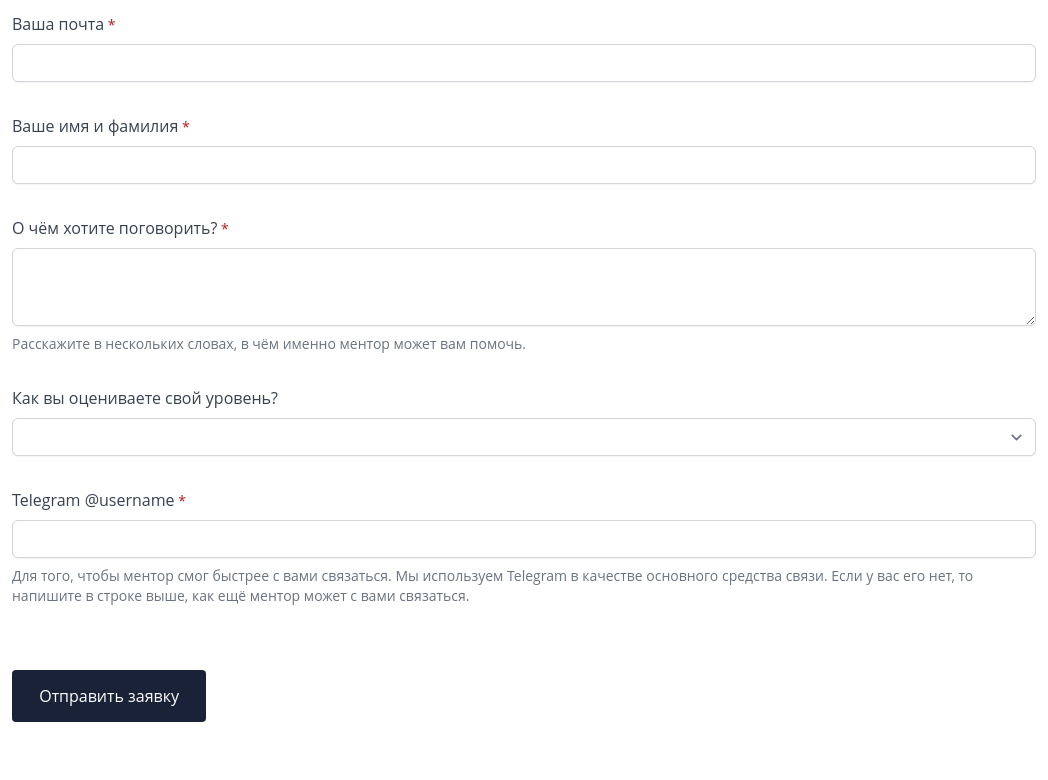
it: ContactMentorForm › shows validation error for empty required fields on submit
Click the button "Отправить заявку" at (109, 696), box [12,670,206,722]
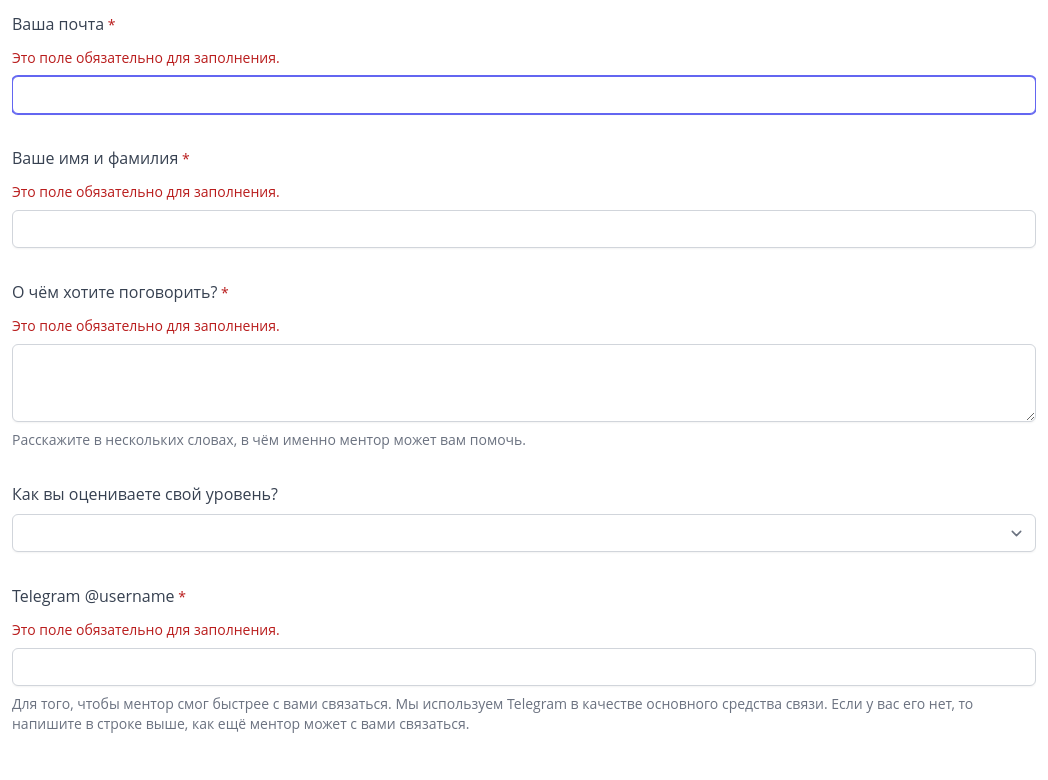
Now the text "Это поле обязательно для заполнения." below "Ваша почта" is shown, box [12,48,280,67]
